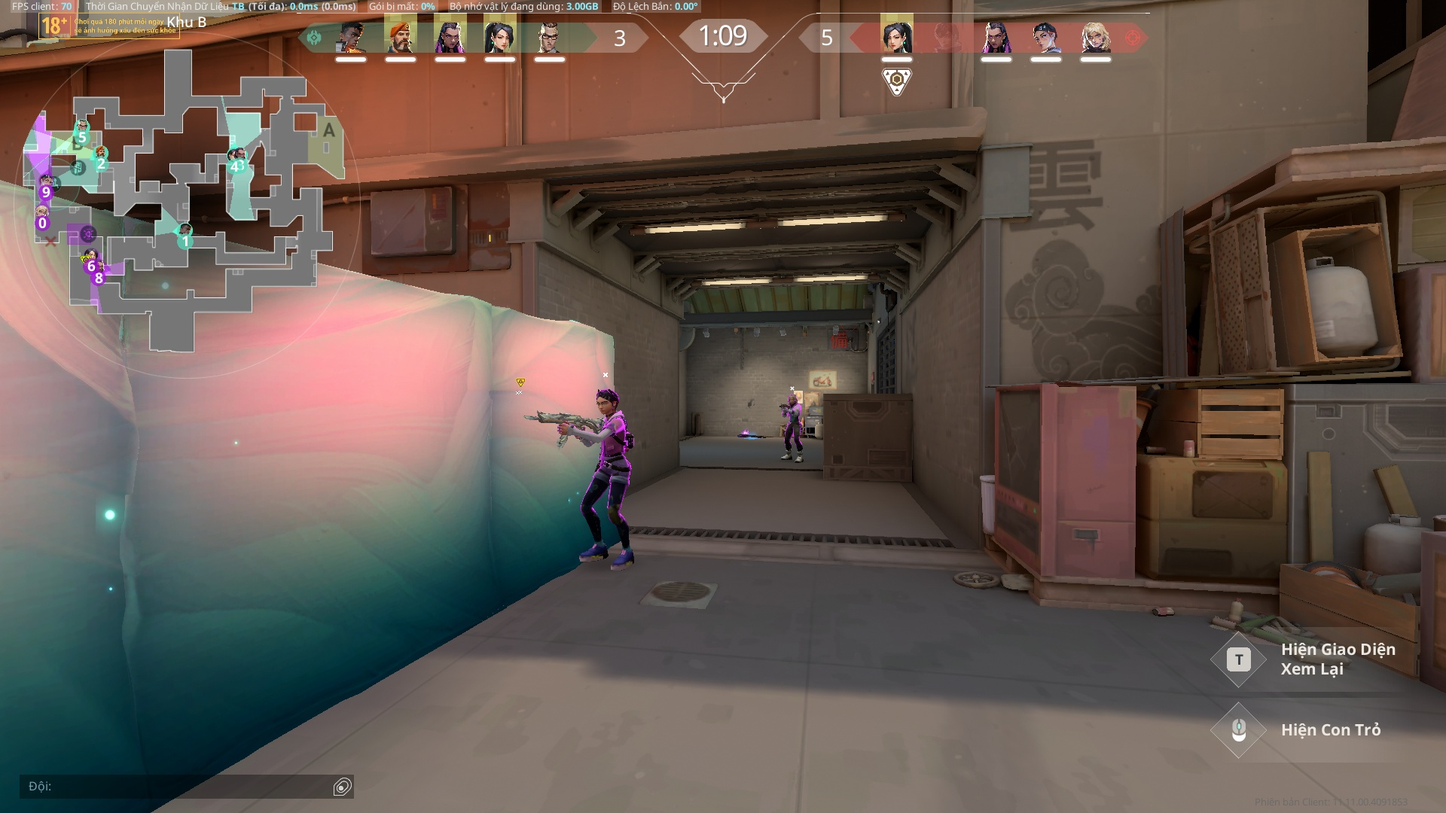body: (599, 416, 628, 461), (787, 403, 800, 421)
head: (596, 389, 618, 414), (788, 394, 796, 403)
